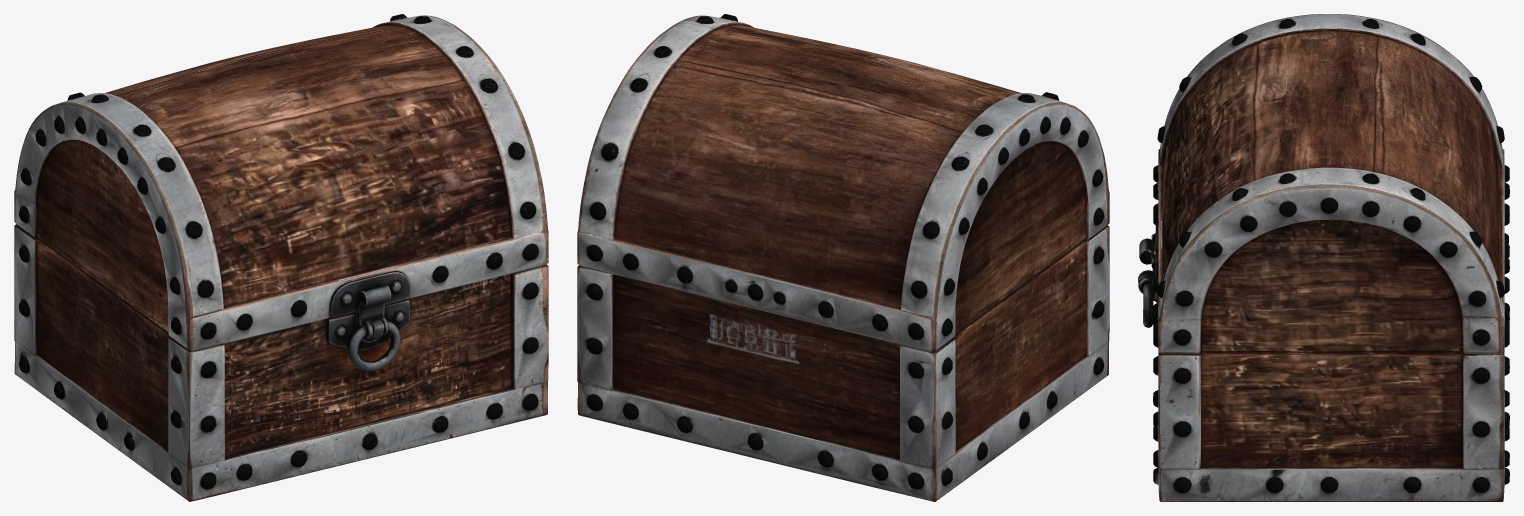
File: chest_lid.glb
The picture shows the model from 3 angles, left to right: view 1: azimuth 30°, elevation 25°; view 2: azimuth 150°, elevation 25°; view 3: azimuth 270°, elevation 25°; orthographic projection.
Parts seen in each view (by area): view 1: chest_lid; view 2: chest_lid; view 3: chest_lid.
Boxes of the visible parts, x1=… form: chest_lid: x1=14, y1=14, x2=548, y2=501; chest_lid: x1=577, y1=14, x2=1109, y2=501; chest_lid: x1=1138, y1=14, x2=1509, y2=501.
Bounding box in the file's own units: 1.18 × 1 × 1.05.
1 material, 1 textured.
